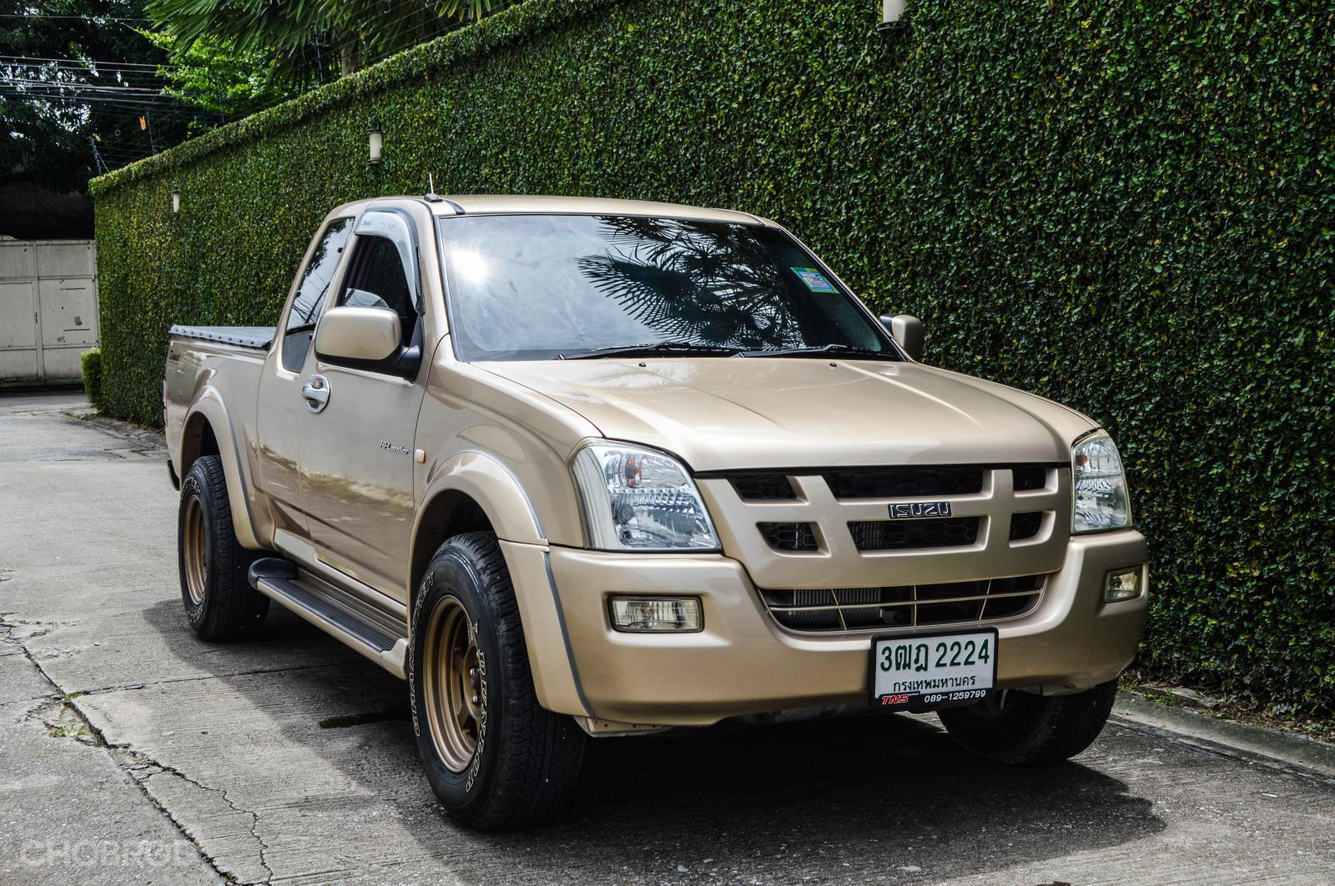license-plate: (865, 624, 1005, 715)
